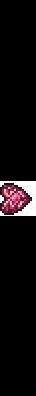lifeC: (0, 181, 32, 215)
